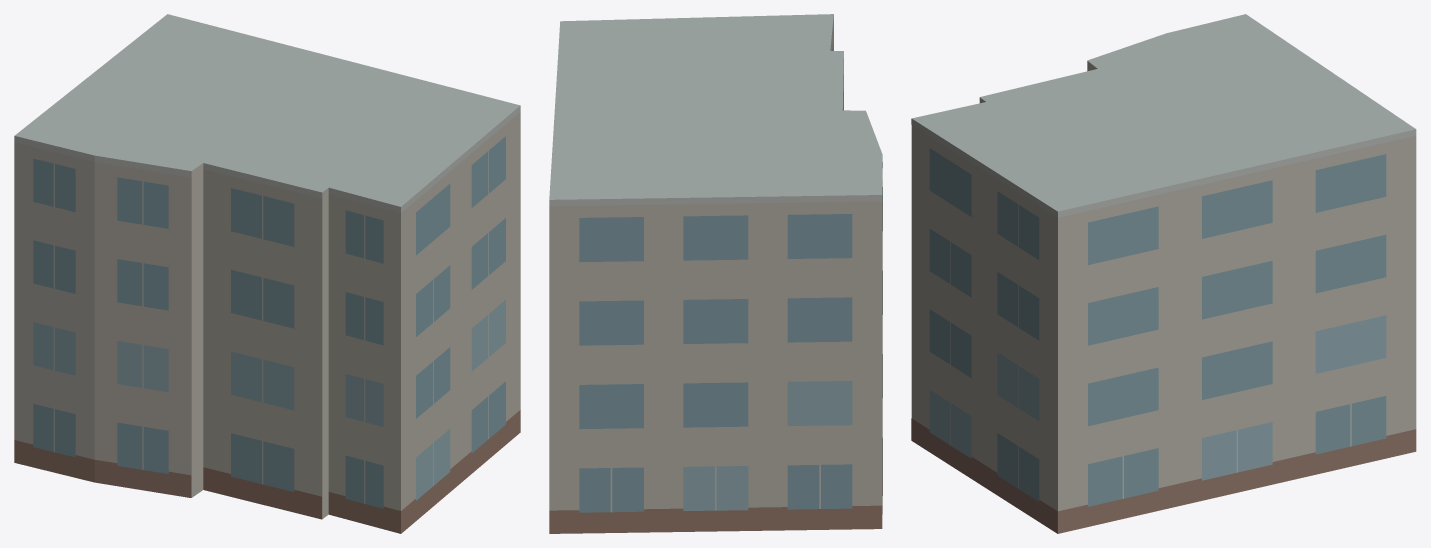
The model's file is survey-upis-32747211.glb.
The picture shows the model from 3 angles, left to right: view 1: azimuth 30°, elevation 25°; view 2: azimuth 150°, elevation 25°; view 3: azimuth 270°, elevation 25°; orthographic projection. The views are drawn at different scales.
Visible parts, largest first — view 1: survey-upis-32747211.tmp; view 2: survey-upis-32747211.tmp; view 3: survey-upis-32747211.tmp.
Boxes of the visible parts, x1=… form: survey-upis-32747211.tmp: x1=14, y1=14, x2=520, y2=533; survey-upis-32747211.tmp: x1=549, y1=14, x2=882, y2=533; survey-upis-32747211.tmp: x1=911, y1=14, x2=1416, y2=533.
Size of the model in its own units: 16.84 by 12.8 by 18.18.
